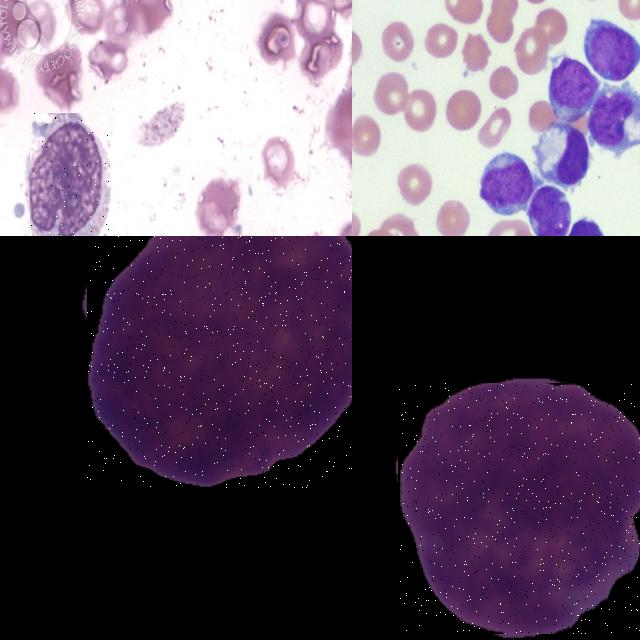ALL Negative Cells: (399, 383, 640, 634), (30, 113, 110, 236)
ALL Positive Cell: (87, 236, 352, 488), (537, 121, 587, 192), (581, 22, 640, 79), (593, 88, 640, 154), (551, 59, 594, 118), (566, 222, 605, 236)
